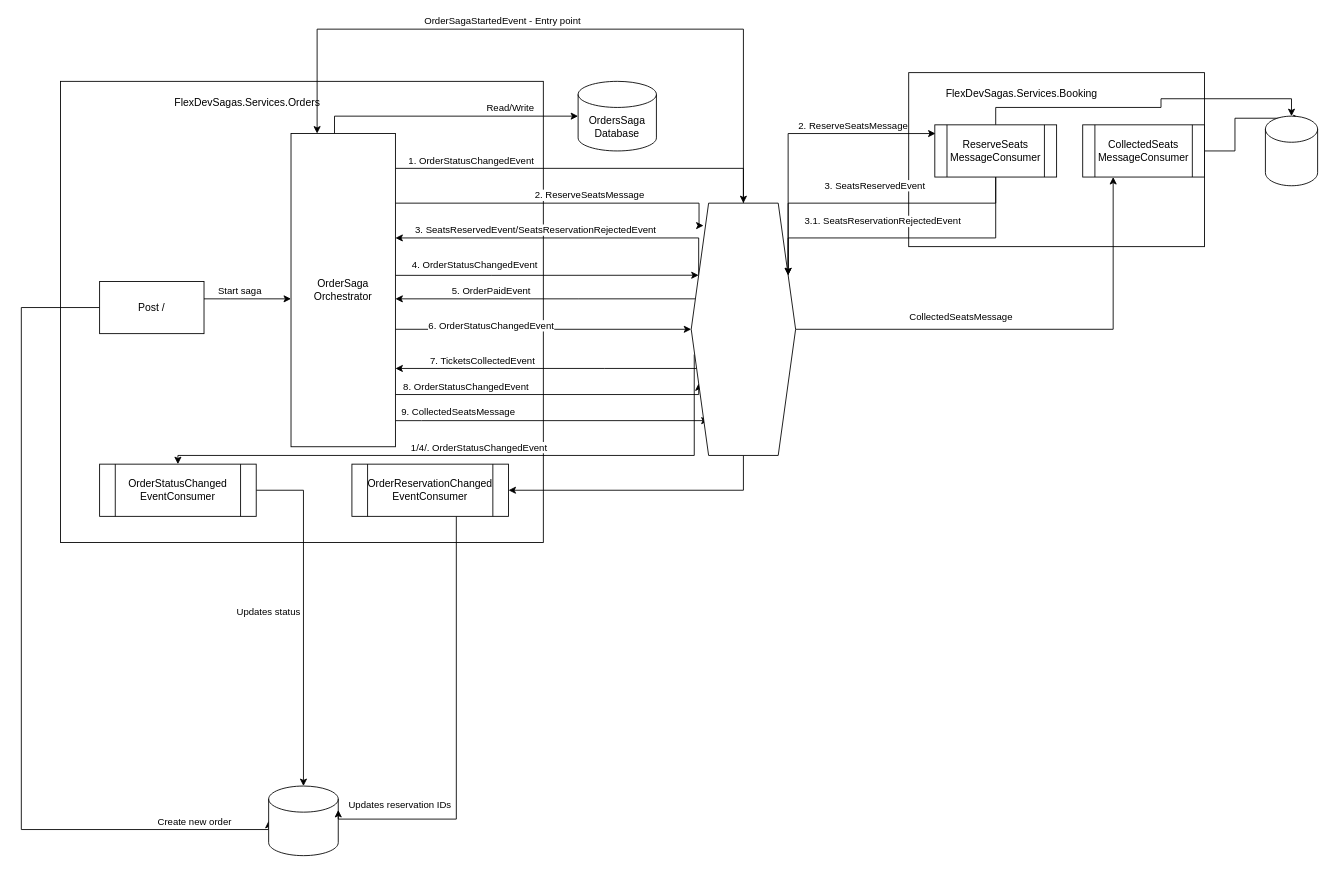
Some shapes in this 1333 by 871 pixel diagram are drawn without their labels. The centre of each missing label's shape, as x and y in pixels:
Booking database: point 1291,150
Orders Database: point 303,820
Service Bus: point 743,328
